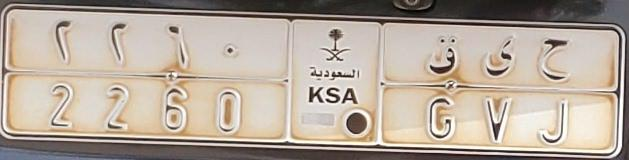0: (214, 45, 246, 138)
2: (45, 17, 78, 129), (102, 21, 133, 131)
6: (160, 24, 191, 135)
G: (425, 35, 464, 144)
J: (536, 38, 574, 144)
V: (482, 35, 514, 145)
